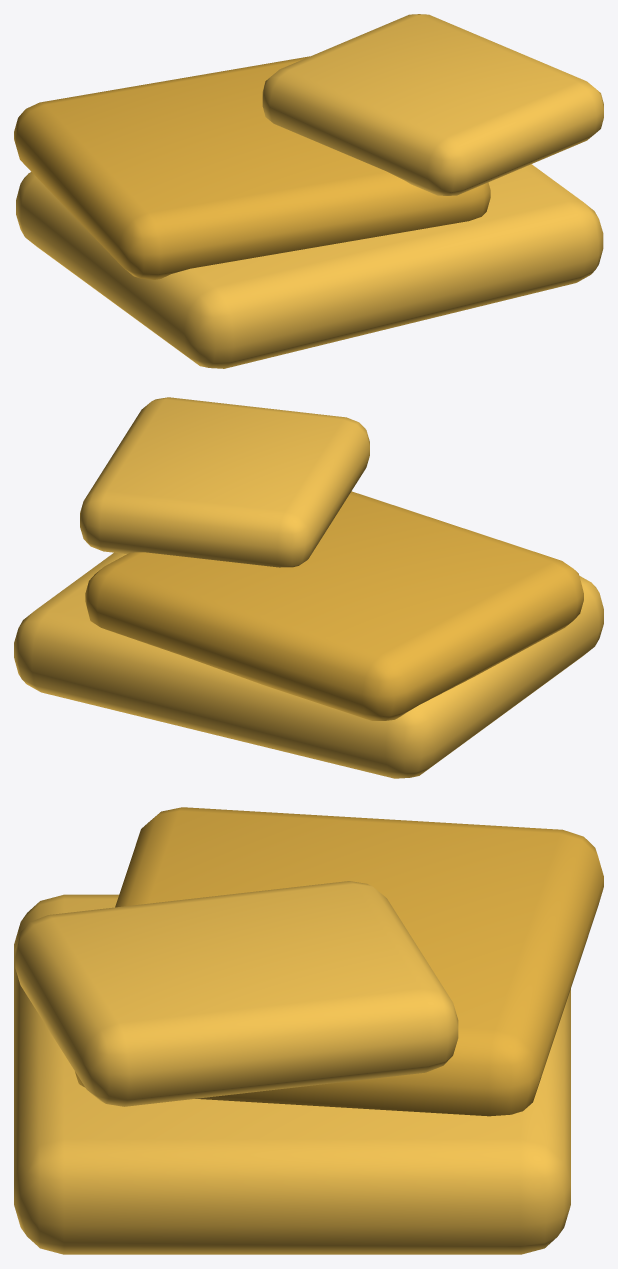
The model's file is cloth.fbx.
The picture shows the model from 3 angles, top to bottom: view 1: azimuth 30°, elevation 25°; view 2: azimuth 150°, elevation 25°; view 3: azimuth 270°, elevation 25°; orthographic projection. The views are drawn at different scales.
Visible parts, largest first — view 1: cloth; view 2: cloth; view 3: cloth.
Part boxes in pixels (<box>): cloth: <box>14,14,603,368</box>; cloth: <box>14,397,603,778</box>; cloth: <box>14,807,603,1254</box>.
Size of the model in its own units: 0.1325 by 0.049 by 0.1059.
